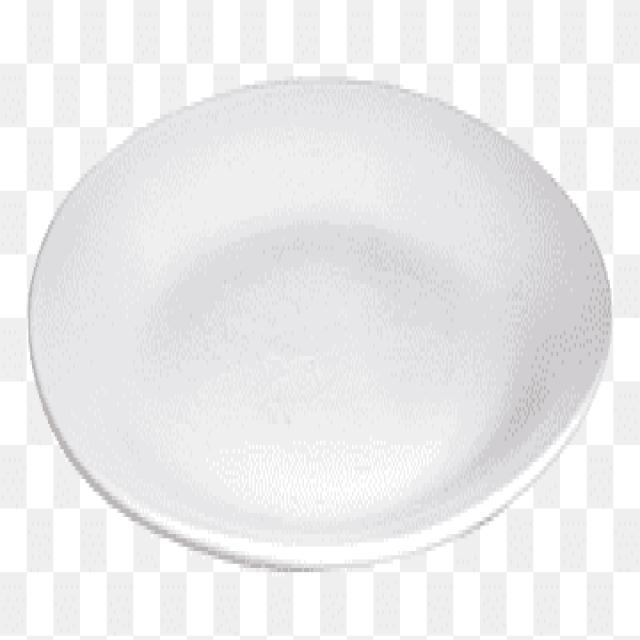Piring: (19, 75, 628, 582)
